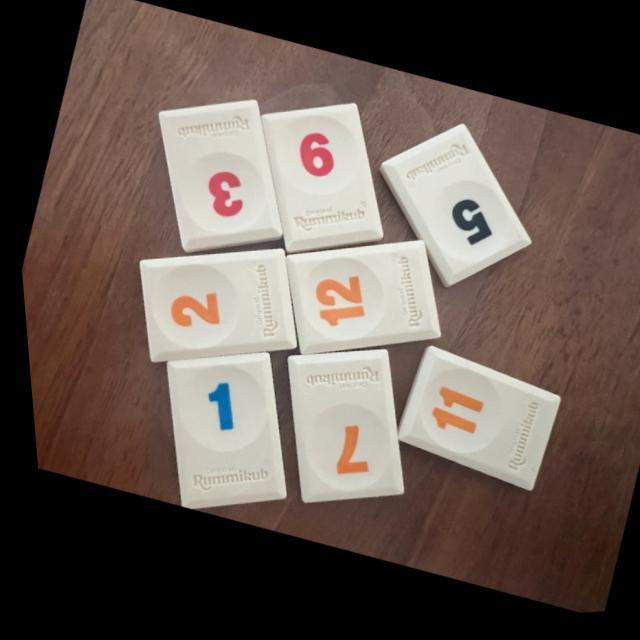black_5: (377, 130, 526, 290)
blue_1: (160, 356, 276, 510)
orange_11: (390, 351, 553, 496)
orange_12: (282, 246, 433, 357)
orange_2: (135, 252, 291, 363)
orange_7: (281, 354, 394, 504)
red_3: (157, 104, 278, 254)
red_6: (259, 108, 378, 257)
